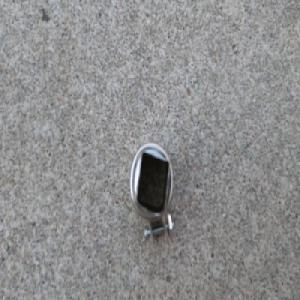MetalPart: (128, 139, 175, 252)
